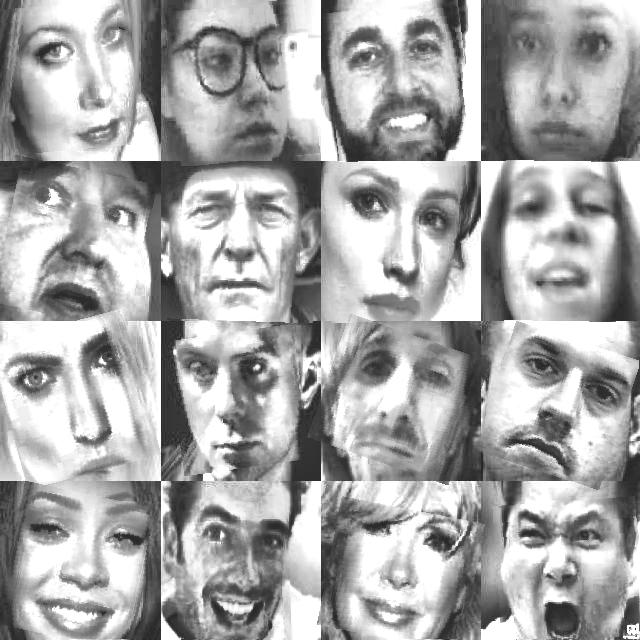angry: (0, 315, 152, 481), (169, 173, 317, 324), (494, 498, 640, 640)
fear: (0, 162, 149, 324)
happy: (1, 487, 152, 640), (326, 0, 471, 159), (326, 167, 472, 322), (322, 502, 479, 640), (0, 1, 136, 152), (504, 160, 618, 323), (177, 497, 290, 640)
neutral: (316, 324, 482, 475), (169, 1, 317, 163), (483, 330, 632, 482), (493, 6, 640, 157), (171, 328, 307, 472)
